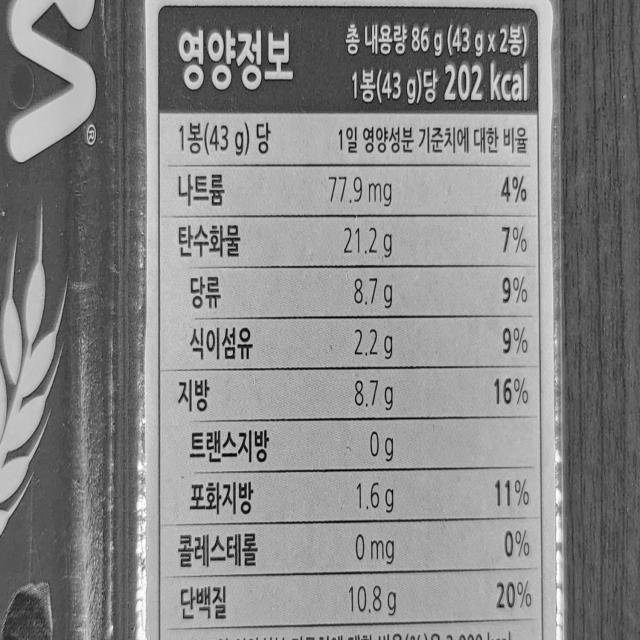Nutrition Label: (157, 3, 553, 640)
